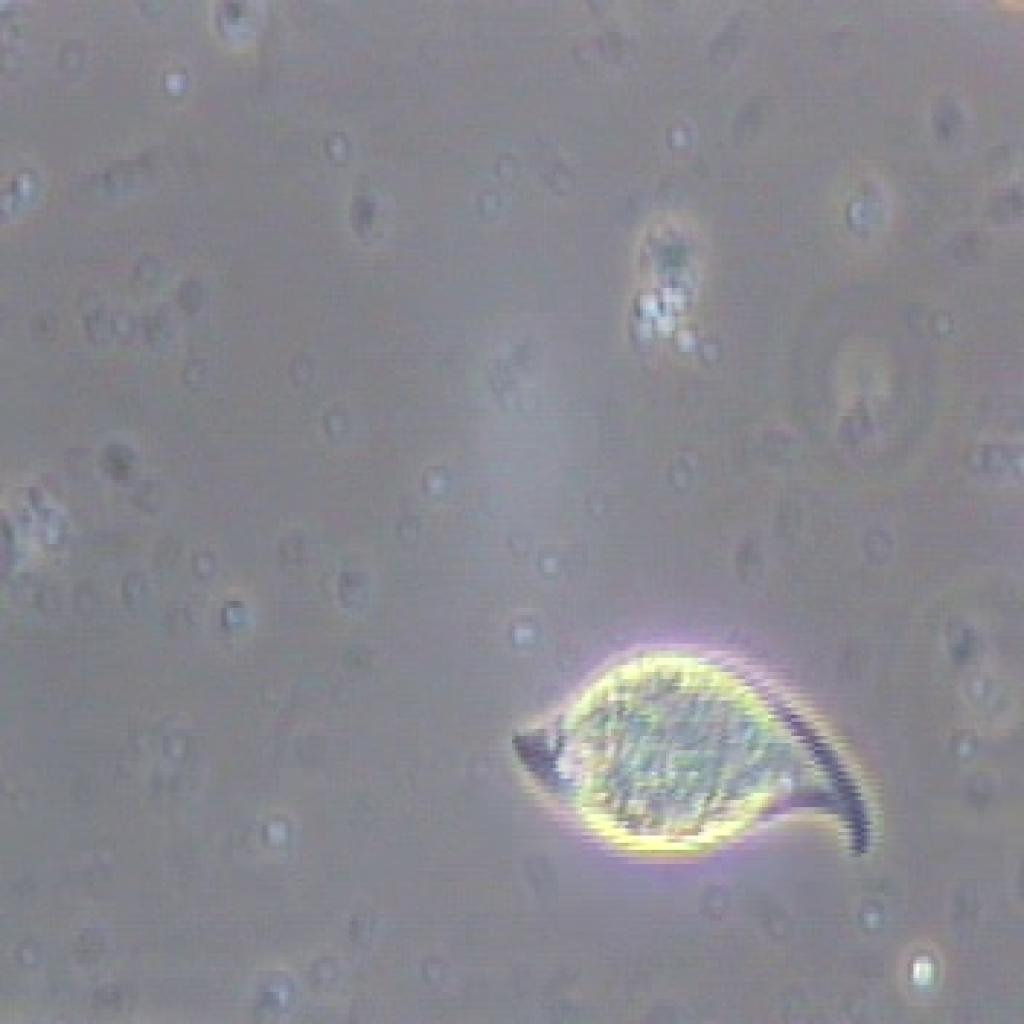Pristina: (444, 617, 880, 887)
